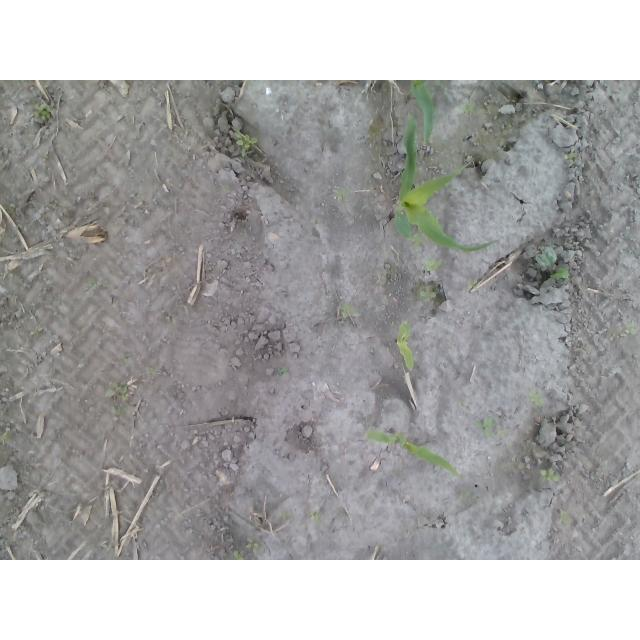Maize: (392, 113, 499, 254), (365, 431, 463, 478), (409, 80, 436, 146), (394, 319, 414, 371)
Weeds: (537, 245, 570, 279), (474, 417, 506, 439), (235, 132, 258, 157), (611, 322, 638, 343), (107, 382, 130, 401), (32, 103, 52, 121), (540, 467, 560, 483), (422, 257, 443, 272), (339, 302, 356, 319), (528, 390, 544, 407), (419, 289, 438, 303), (245, 538, 260, 555), (87, 277, 110, 288), (409, 232, 423, 248), (557, 507, 572, 521), (333, 187, 348, 201), (456, 103, 476, 113), (564, 152, 579, 165), (111, 404, 128, 415), (308, 509, 320, 523), (232, 549, 245, 560), (0, 432, 10, 444), (29, 328, 43, 336), (468, 279, 478, 290), (280, 510, 293, 518), (277, 366, 288, 375), (122, 353, 130, 363), (147, 367, 155, 374), (460, 493, 471, 498), (436, 80, 445, 85), (459, 399, 465, 405)
